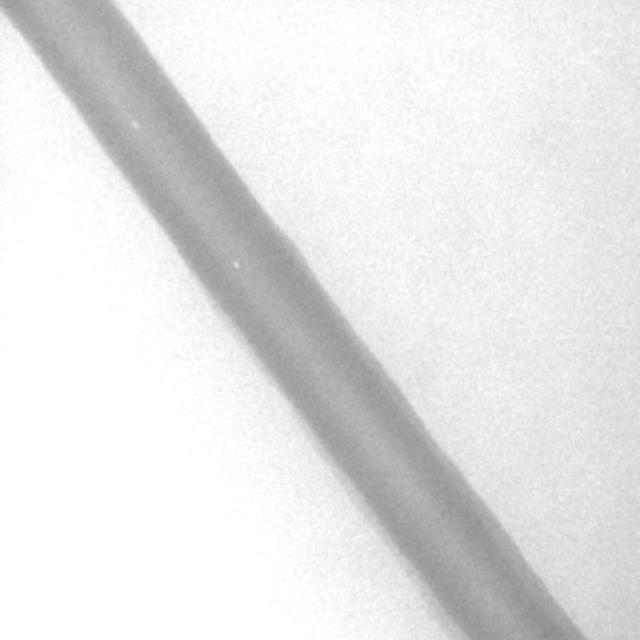air hole: (128, 115, 140, 130), (233, 259, 240, 270)
